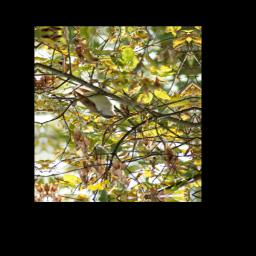Cuckoo: (67, 87, 124, 124)
